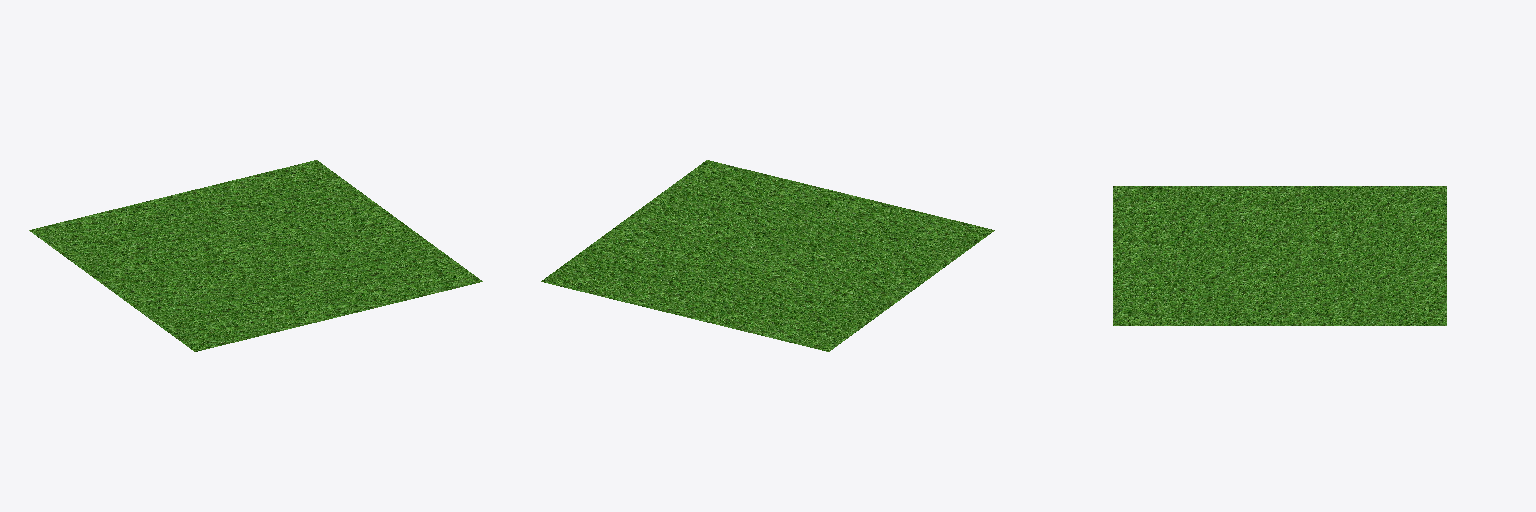
3 renders of one model, left to right at view 1: azimuth 30°, elevation 25°; view 2: azimuth 150°, elevation 25°; view 3: azimuth 270°, elevation 25°, orthographic.
Visible parts, largest first — view 1: Cube; view 2: Cube; view 3: Cube.
Boxes of the visible parts, x1,y1,x2,y2 form: Cube: [29, 160, 482, 351]; Cube: [541, 160, 994, 351]; Cube: [1113, 186, 1446, 325].
Bounding box in the file's own units: 2 × 0 × 2.
Materials: 1 (1 with a texture image).